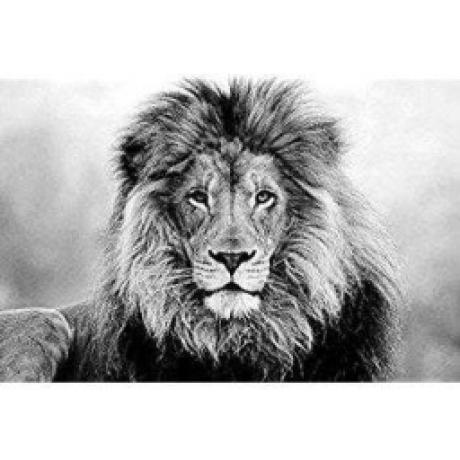Lion: (0, 73, 405, 381)
